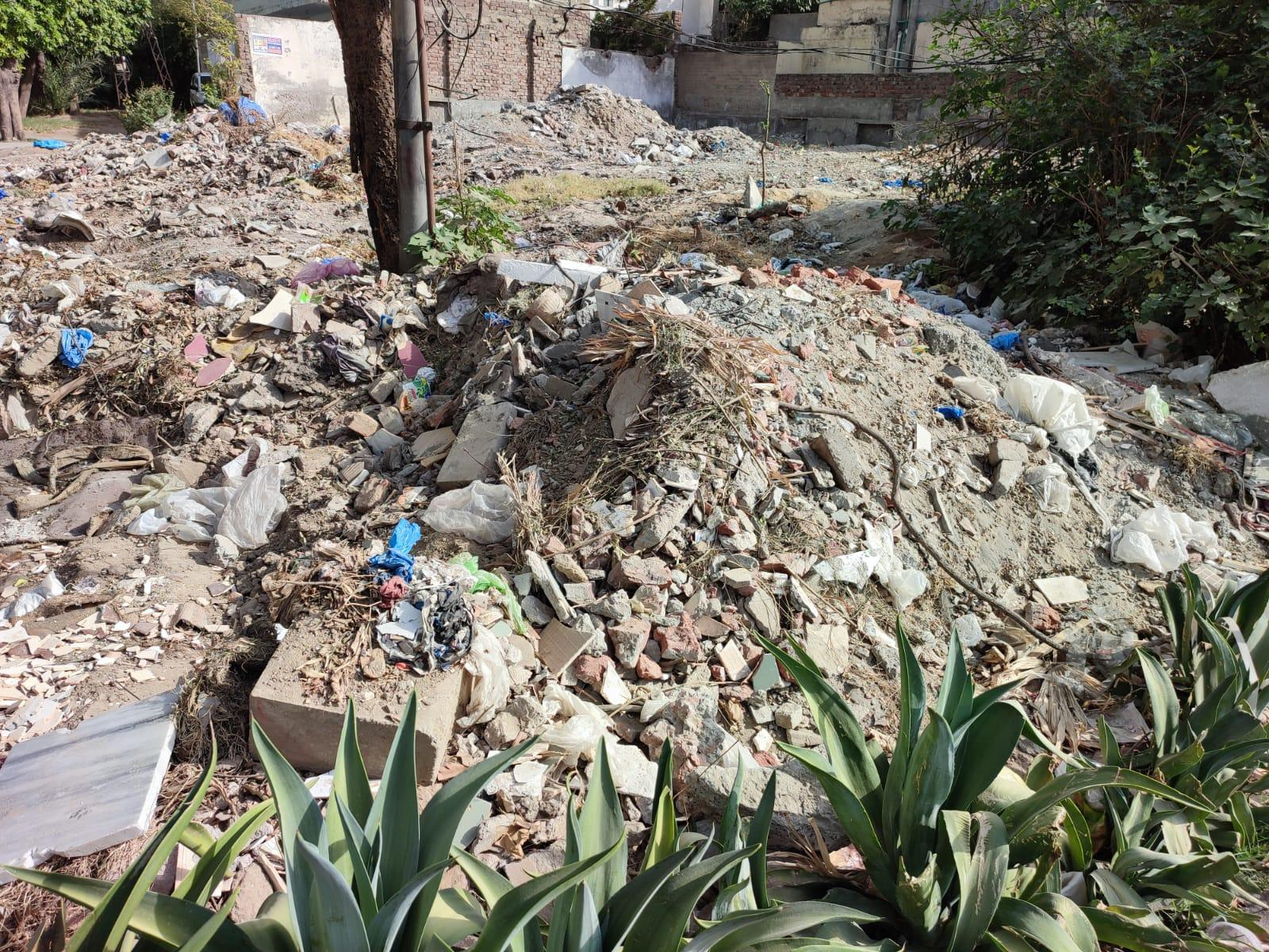garbage: (0, 103, 1034, 743)
